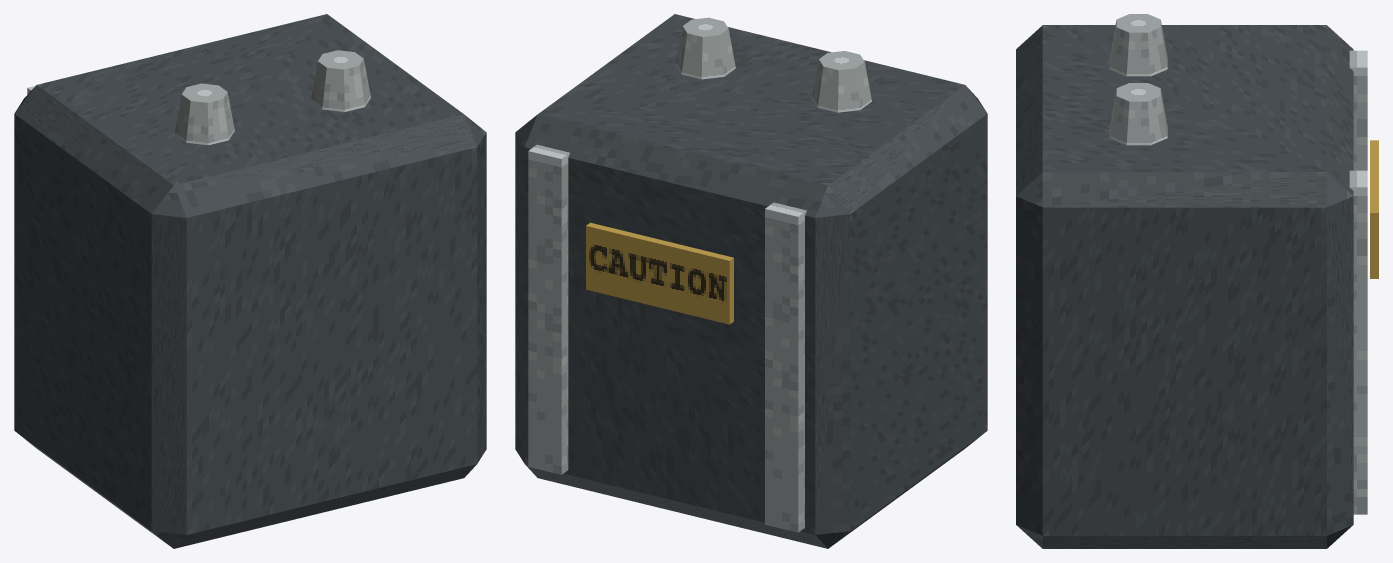
The model's file is f_compact_ASRG_containment.glb.
3 views of the same model, side by side, from view 1: azimuth 30°, elevation 25°; view 2: azimuth 150°, elevation 25°; view 3: azimuth 270°, elevation 25° (orthographic). The views are drawn at different scales.
Visible parts, largest first — view 1: block_shielded-generator-containment, block_sealed-top-access-port (×2); view 2: block_shielded-generator-containment, block_armored-edge-rib (×2), block_radiation-warning-plate, block_sealed-top-access-port (×2); view 3: block_shielded-generator-containment, block_armored-edge-rib (×2), block_sealed-top-access-port (×2), block_radiation-warning-plate.
Part boxes in pixels (x1,y1,x2,y2): block_shielded-generator-containment: (14, 14, 486, 548); block_sealed-top-access-port (×2): (174, 50, 370, 145); block_shielded-generator-containment: (515, 14, 987, 548); block_armored-edge-rib (×2): (528, 144, 806, 532); block_radiation-warning-plate: (586, 222, 733, 324); block_sealed-top-access-port (×2): (675, 17, 871, 112); block_shielded-generator-containment: (1016, 25, 1353, 548); block_armored-edge-rib (×2): (1349, 50, 1367, 514); block_sealed-top-access-port (×2): (1109, 14, 1167, 145); block_radiation-warning-plate: (1370, 140, 1378, 278).
Size of the model in its own units: 0.886 by 1.02 by 0.802.
Materials: 1 (1 with a texture image).
